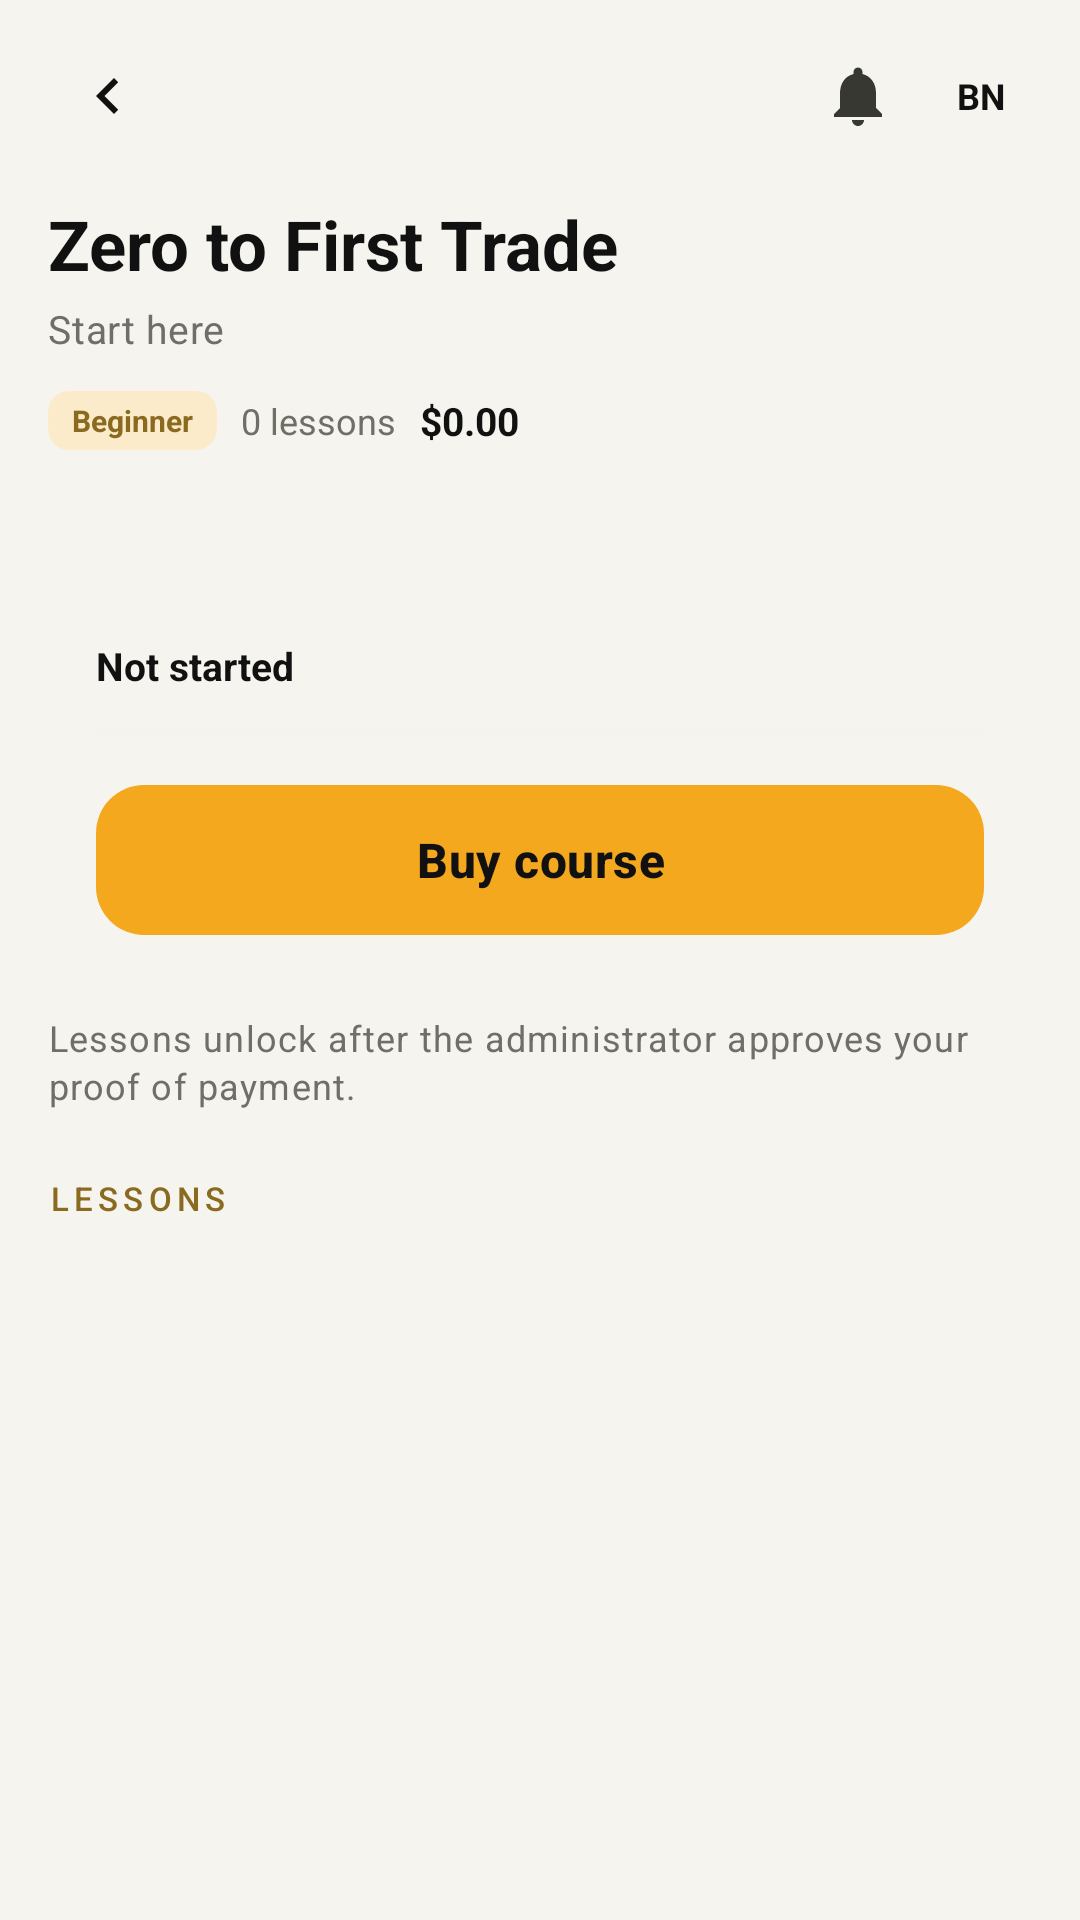

Icon click points for this 1080 × 1920 phone screenshot, format (x,y):
Back: (107,96)
Notifications: (858,96)
